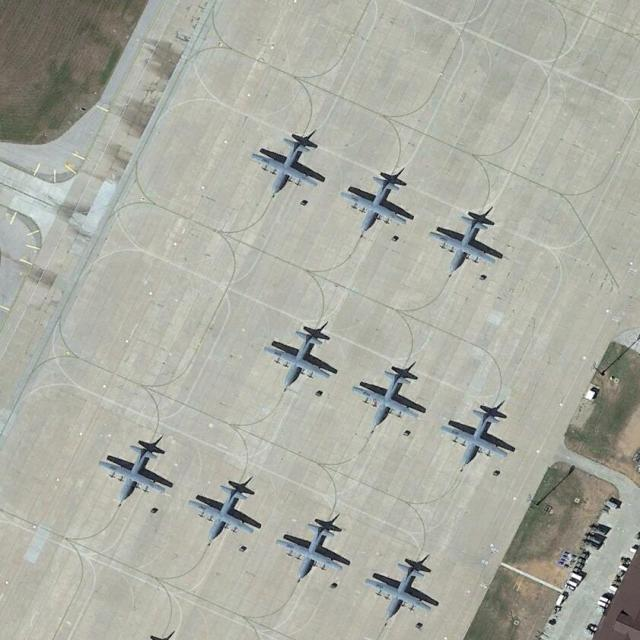fighter jet: (428, 200, 508, 276), (448, 398, 519, 470), (368, 552, 438, 620), (193, 471, 260, 540), (94, 437, 170, 497), (351, 157, 408, 236), (262, 327, 332, 385), (356, 366, 423, 425), (253, 134, 326, 188), (282, 517, 345, 579)
